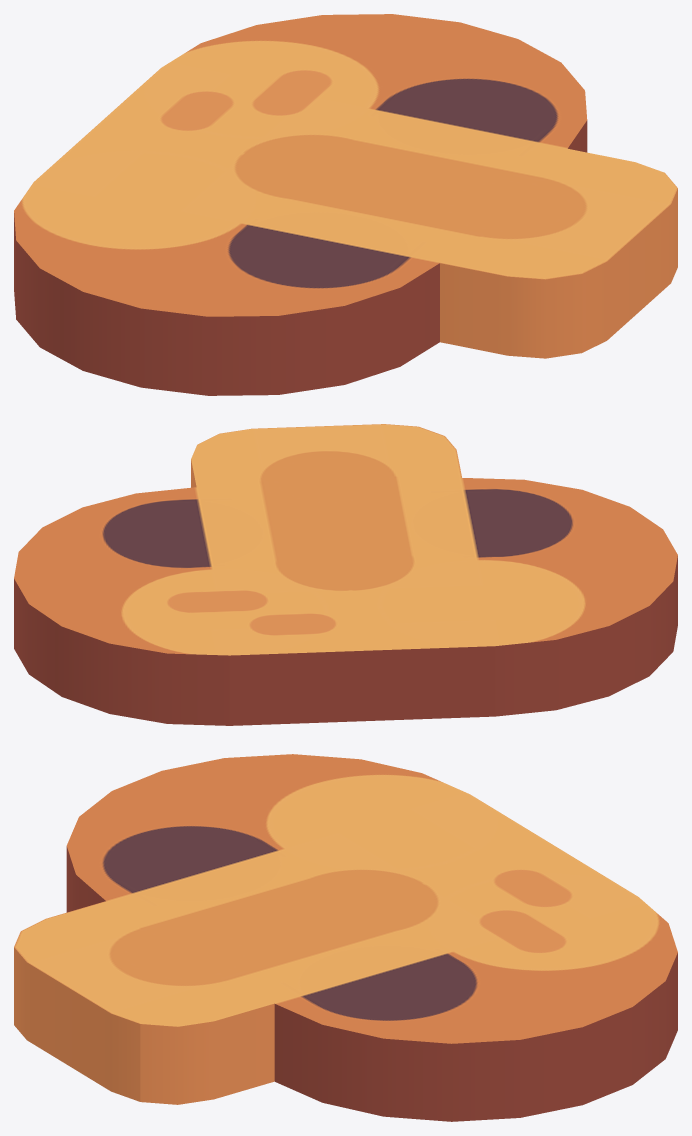
The model's file is Mushroom_Slice_Mushroom_0.glb.
3 renders of one model, top to bottom at view 1: azimuth 30°, elevation 25°; view 2: azimuth 150°, elevation 25°; view 3: azimuth 270°, elevation 25°, orthographic. The views are drawn at different scales.
Parts seen in each view (by area): view 1: Mushroom_Slice_Mushroom_0; view 2: Mushroom_Slice_Mushroom_0; view 3: Mushroom_Slice_Mushroom_0.
Part boxes in pixels (x1,y1,x2,y2): Mushroom_Slice_Mushroom_0: (14,14,677,395); Mushroom_Slice_Mushroom_0: (14,424,677,725); Mushroom_Slice_Mushroom_0: (14,754,677,1121).
Bounding box in the file's own units: 0.0784 × 0.00985 × 0.076.
Materials: 1 (1 with a texture image).
